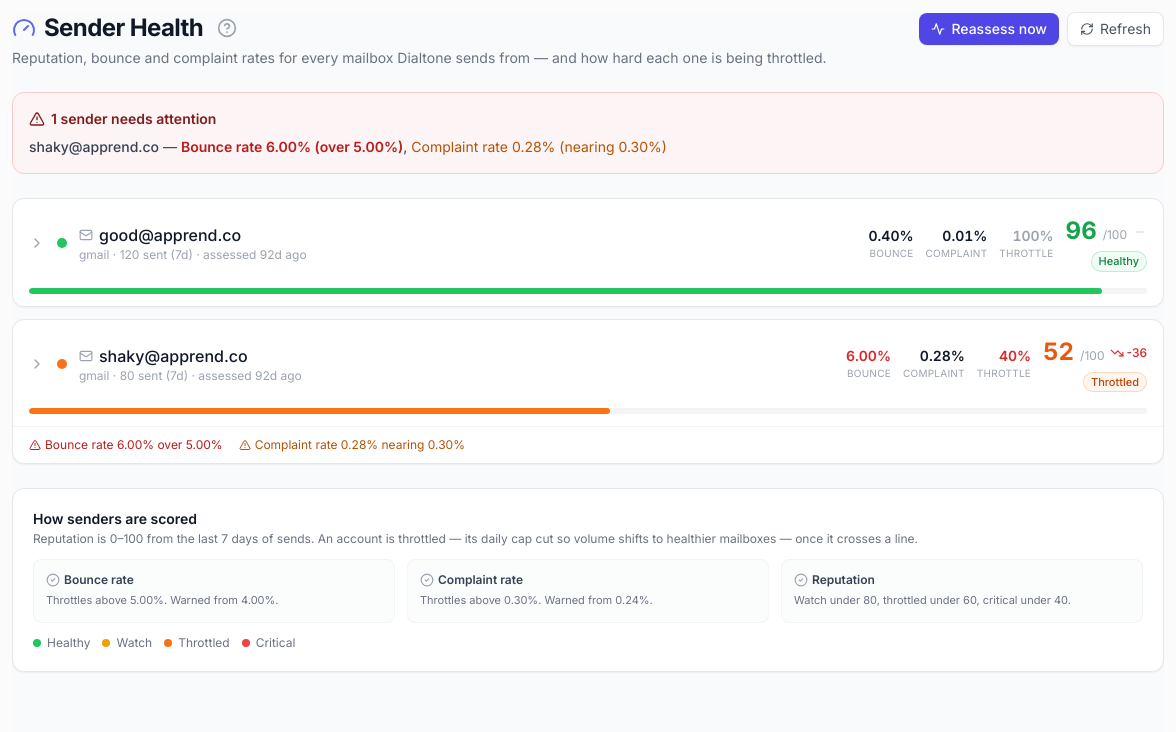
SenderHealth page › shows the reputation trend when history is expanded
Click the button named "show trend for shaky@apprend.co" at (37, 364), box [29,356,45,372]
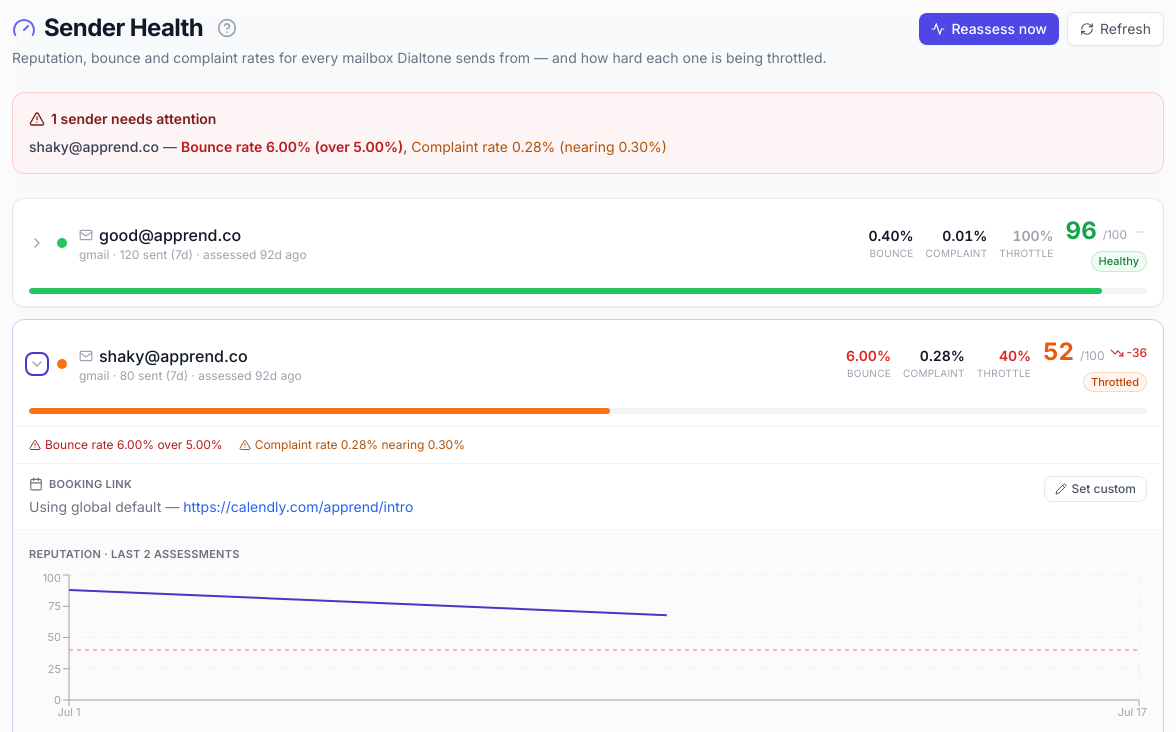
Check: the heading "Reputation · last 2 assessments" is shown, box [29,546,240,560]
